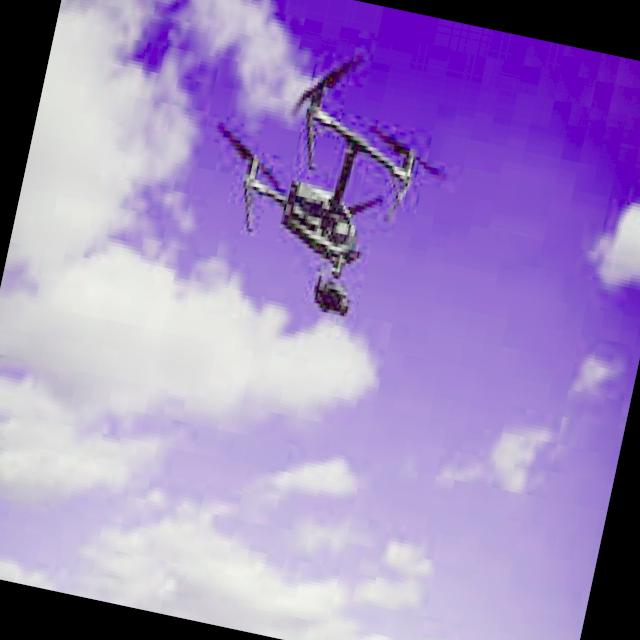drone: (184, 36, 472, 340)
